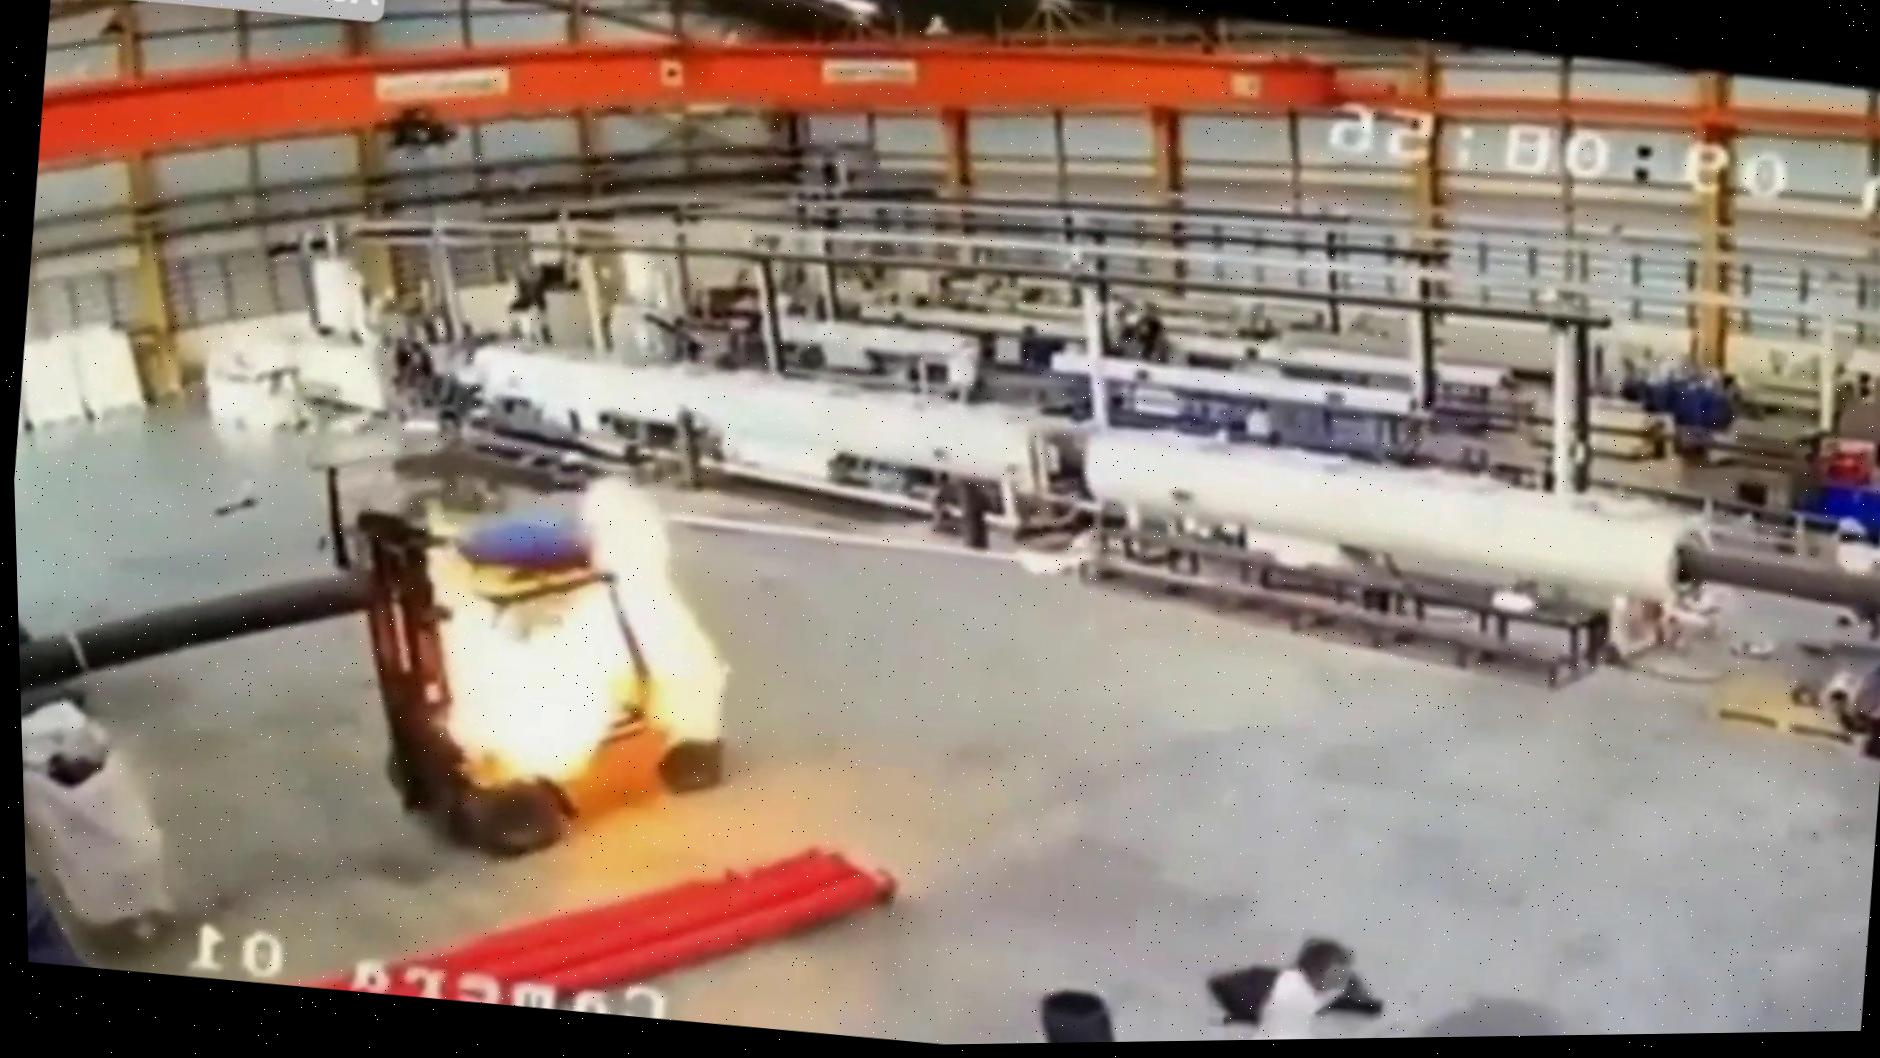fire: (281, 386, 895, 856)
